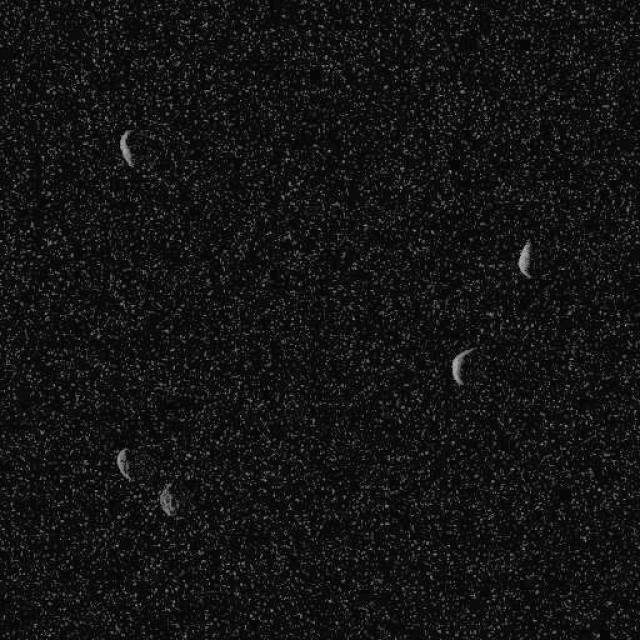D2: (450, 346, 476, 386), (516, 239, 534, 279), (158, 480, 178, 516), (117, 128, 135, 168), (115, 446, 133, 482)
